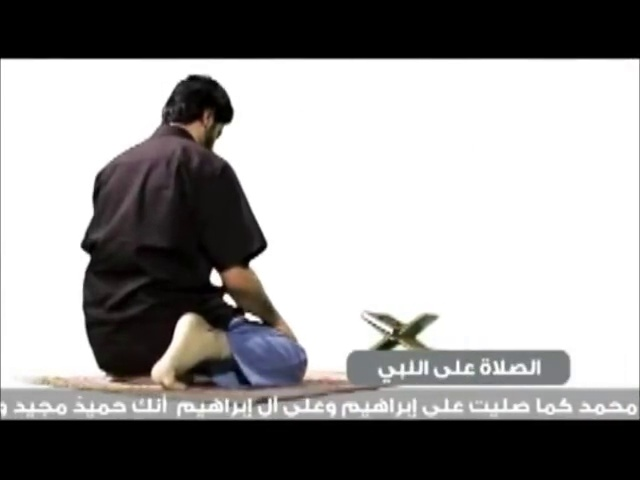sitting: (74, 70, 312, 397)
